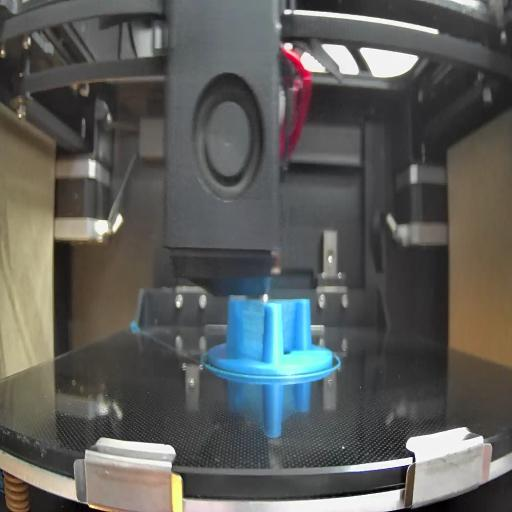stringing: (233, 300, 264, 360), (282, 300, 298, 356)
